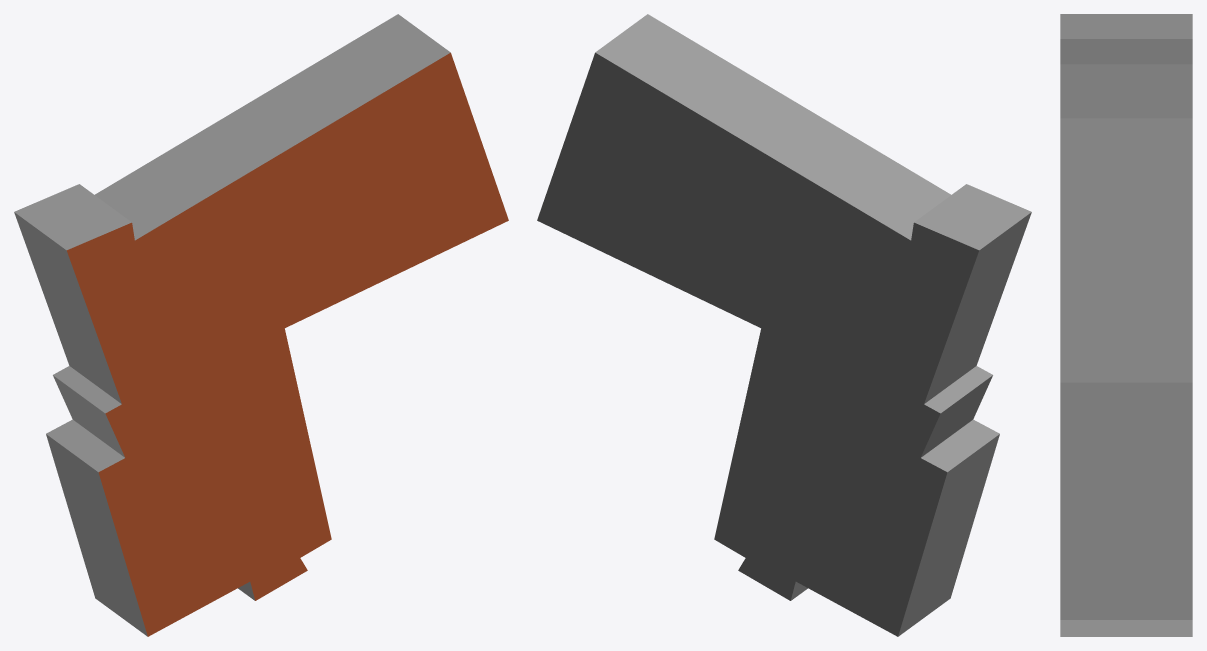
The model's file is construction_4719_assumed_A_Casa_h6m.obj.
The picture shows the model from 3 angles, left to right: view 1: azimuth 30°, elevation 25°; view 2: azimuth 150°, elevation 25°; view 3: azimuth 270°, elevation 25°; orthographic projection. The views are drawn at different scales.
Parts seen in each view (by area): view 1: construction_4719_assumed_A_Casa; view 2: construction_4719_assumed_A_Casa; view 3: construction_4719_assumed_A_Casa.
Boxes of the visible parts, box(x1,y1,x2,y2) form: construction_4719_assumed_A_Casa: box(14, 14, 508, 636); construction_4719_assumed_A_Casa: box(537, 14, 1031, 636); construction_4719_assumed_A_Casa: box(1060, 14, 1192, 636).
Size of the model in its own units: 29.11 by 32.11 by 6.
